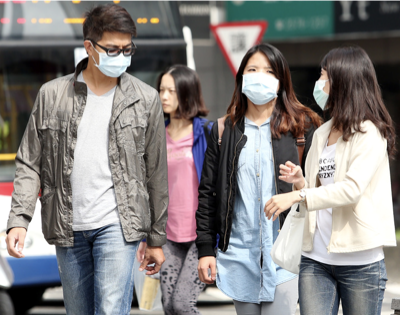with_mask: (91, 38, 133, 78), (241, 63, 281, 105), (312, 67, 332, 110)
without_mask: (157, 82, 179, 113)
